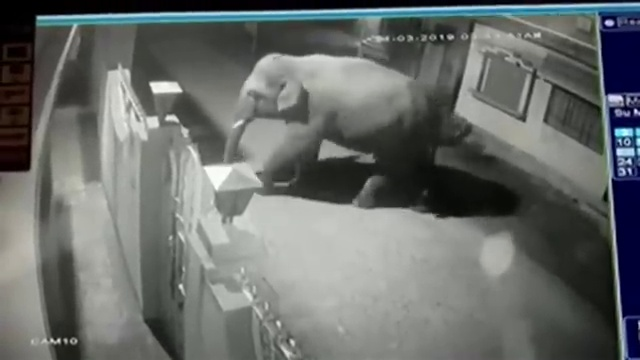Elephant: (224, 53, 441, 214)
